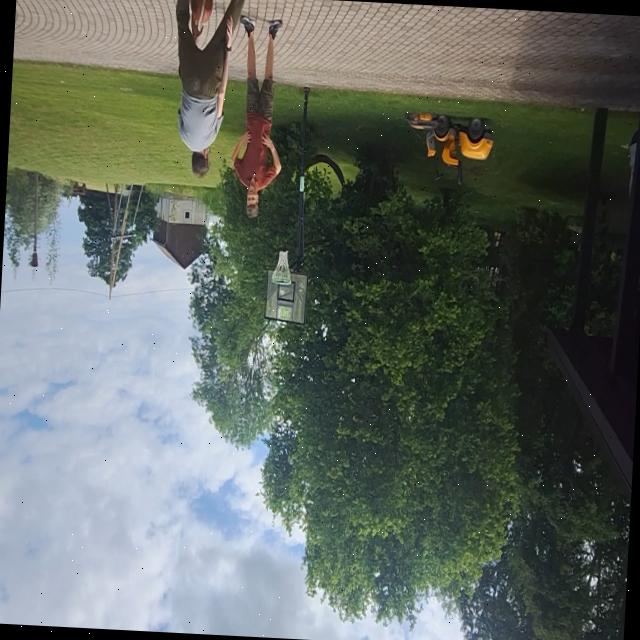ball: (189, 0, 216, 27)
basket: (270, 246, 293, 288)
player: (164, 0, 247, 180), (226, 8, 292, 222)
